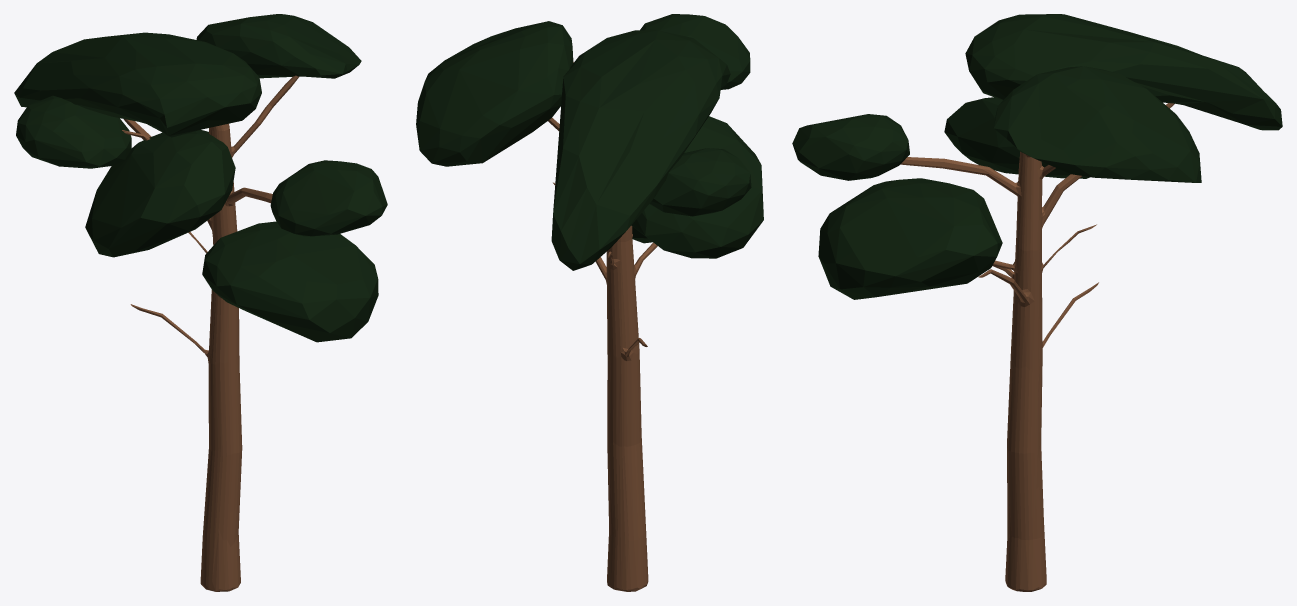
The model's file is SM_tree_large_02.fbx.
The picture shows the model from 3 angles, left to right: view 1: azimuth 30°, elevation 25°; view 2: azimuth 150°, elevation 25°; view 3: azimuth 270°, elevation 25°; orthographic projection. The views are drawn at different scales.
Visible parts, largest first — view 1: Object019; view 2: Object019; view 3: Object019.
Boxes of the visible parts, left/top/right/bottom form: Object019: left=14, top=14, right=387, bottom=591; Object019: left=416, top=14, right=763, bottom=591; Object019: left=792, top=14, right=1282, bottom=591.
Bounding box in the file's own units: 281 × 376 × 459.
